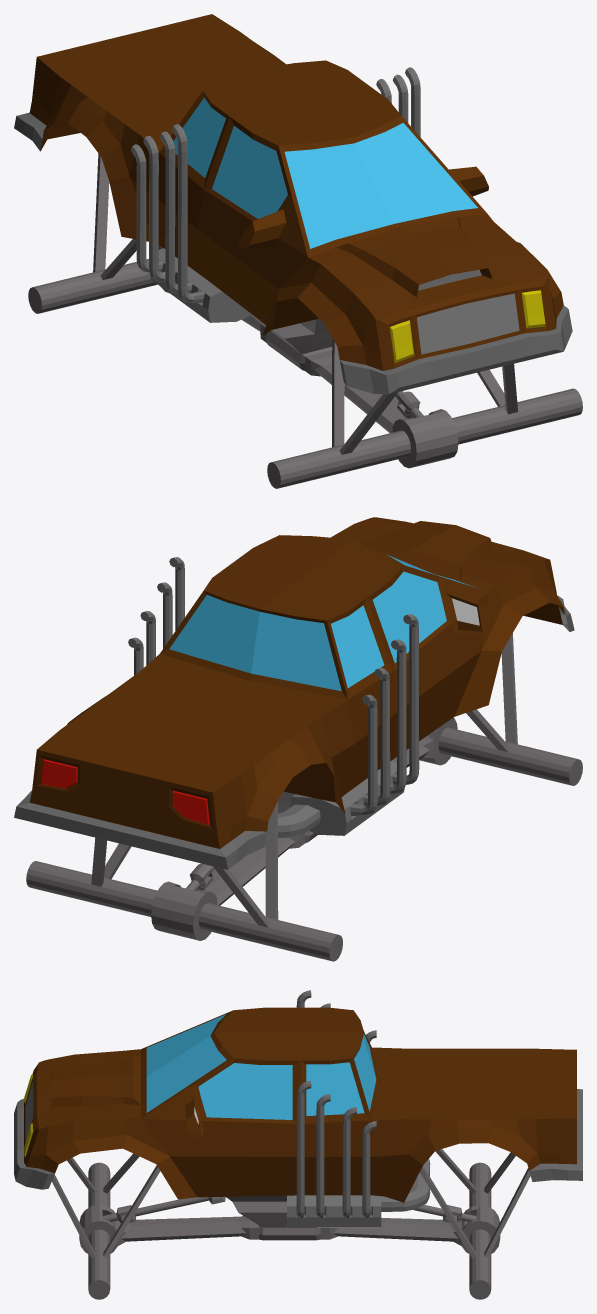
The model's file is monsterBody.fbx.
The picture shows the model from 3 angles, top to bottom: view 1: azimuth 30°, elevation 25°; view 2: azimuth 150°, elevation 25°; view 3: azimuth 270°, elevation 25°; orthographic projection. The views are drawn at different scales.
Parts seen in each view (by area): view 1: BODY; view 2: BODY; view 3: BODY.
Part boxes in pixels (left/top/right/bottom): BODY: left=14, top=14, right=582, bottom=488; BODY: left=14, top=517, right=582, bottom=961; BODY: left=14, top=990, right=582, bottom=1299.
Bounding box in the file's own units: 193 × 166 × 396.
